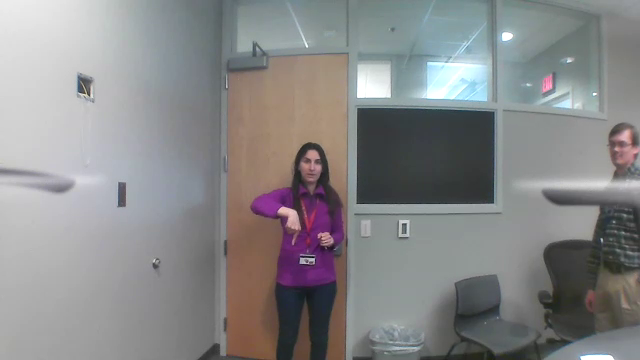down: (284, 208, 304, 248)
